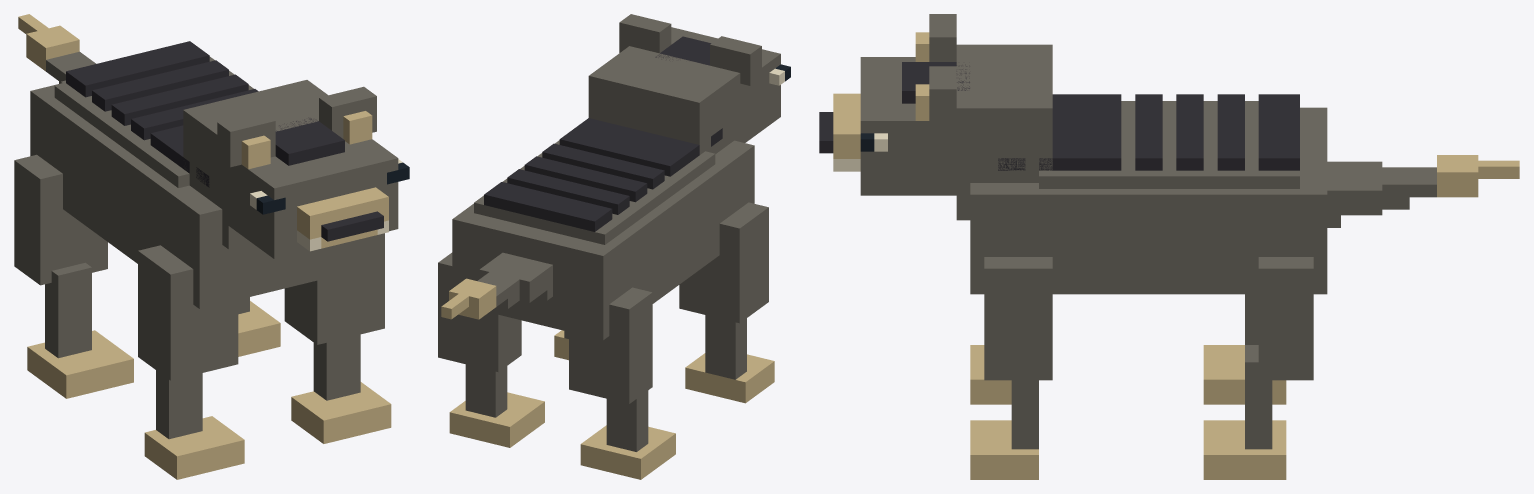
The model's file is flint_jackal.glb.
3 views of the same model, side by side, from view 1: azimuth 30°, elevation 25°; view 2: azimuth 150°, elevation 25°; view 3: azimuth 270°, elevation 25° (orthographic). The views are drawn at different scales.
Parts seen in each view (by area): view 1: flint_jackal/thorax, flint_jackal/head, flint_jackal/left_foreleg, flint_jackal/left_hindleg, flint_jackal/right_foreleg, flint_jackal/neck, flint_jackal/head_ear_l, flint_jackal/tail, flint_jackal/head_ear_r, flint_jackal/right_hindleg; view 2: flint_jackal/thorax, flint_jackal/left_hindleg, flint_jackal/left_foreleg, flint_jackal/neck, flint_jackal/right_hindleg, flint_jackal/tail, flint_jackal/head, flint_jackal/head_ear_l, flint_jackal/head_ear_r, flint_jackal/right_foreleg; view 3: flint_jackal/thorax, flint_jackal/head, flint_jackal/neck, flint_jackal/right_foreleg, flint_jackal/right_hindleg, flint_jackal/tail, flint_jackal/left_hindleg, flint_jackal/head_ear_r, flint_jackal/head_ear_l, flint_jackal/left_foreleg.
Boxes of the visible parts, box(x1,y1,x2,y2) form: flint_jackal/thorax: box(30, 41, 368, 308); flint_jackal/head: box(215, 117, 409, 258); flint_jackal/left_foreleg: box(138, 245, 244, 479); flint_jackal/left_hindleg: box(14, 154, 133, 398); flint_jackal/right_foreleg: box(284, 233, 391, 443); flint_jackal/neck: box(183, 80, 327, 249); flint_jackal/head_ear_l: box(217, 111, 275, 169); flint_jackal/tail: box(18, 14, 95, 83); flint_jackal/head_ear_r: box(319, 86, 376, 144); flint_jackal/right_hindleg: box(238, 297, 280, 356); flint_jackal/thorax: box(452, 118, 754, 340); flint_jackal/left_hindleg: box(569, 287, 675, 479); flint_jackal/left_foreleg: box(679, 202, 774, 403); flint_jackal/neck: box(588, 46, 740, 154); flint_jackal/right_hindleg: box(438, 252, 544, 447); flint_jackal/tail: box(441, 252, 552, 319); flint_jackal/head: box(655, 27, 790, 143); flint_jackal/head_ear_l: box(710, 36, 761, 85); flint_jackal/head_ear_r: box(619, 14, 671, 53); flint_jackal/right_foreleg: box(554, 330, 568, 360); flint_jackal/thorax: box(970, 94, 1327, 294); flint_jackal/head: box(819, 57, 984, 195); flint_jackal/neck: box(956, 44, 1052, 220); flint_jackal/right_foreleg: box(970, 257, 1052, 479); flint_jackal/right_hindleg: box(1203, 257, 1313, 479); flint_jackal/tail: box(1327, 155, 1519, 227); flint_jackal/left_hindleg: box(1203, 294, 1286, 404); flint_jackal/head_ear_r: box(915, 66, 956, 126); flint_jackal/head_ear_l: box(915, 14, 956, 61); flint_jackal/left_foreleg: box(970, 345, 1011, 404).
Bounding box in the file's own units: 0.5938 × 0.9375 × 1.59.
